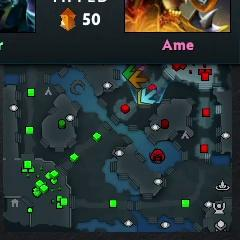x2: (136, 91, 149, 105)
x3: (141, 88, 158, 105)
x4: (121, 65, 139, 81)
x5: (129, 70, 148, 90)
